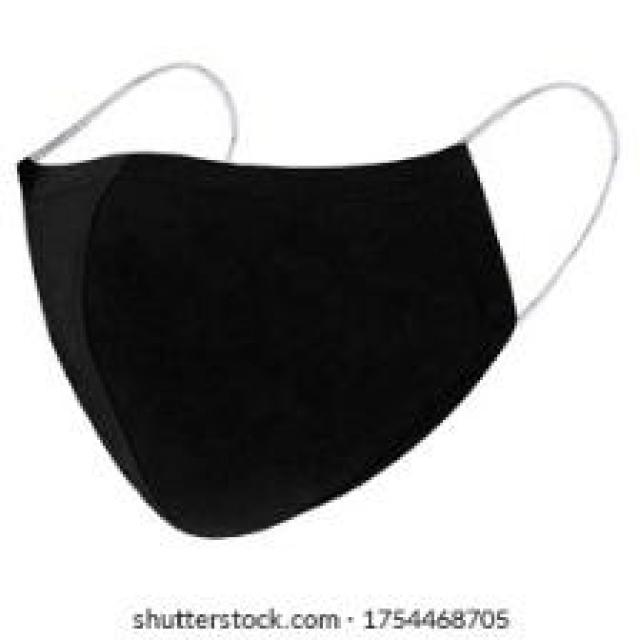Mask: (8, 76, 615, 543)
